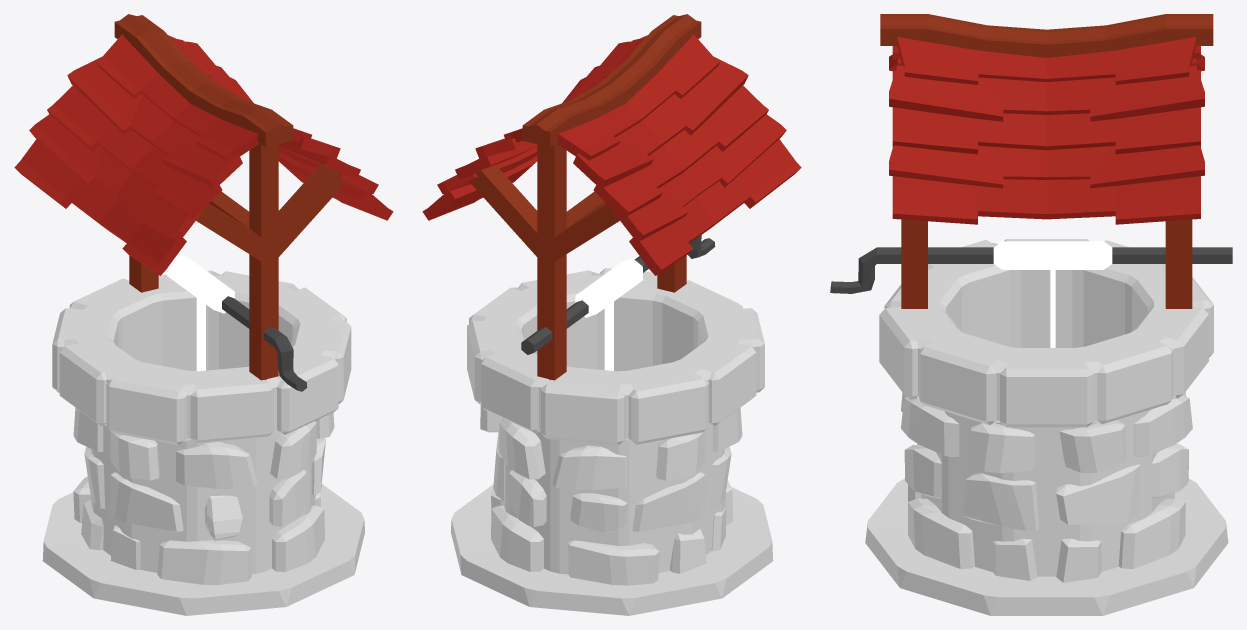
Rendered from well.glb.
3 views of the same model, side by side, from view 1: azimuth 30°, elevation 25°; view 2: azimuth 150°, elevation 25°; view 3: azimuth 270°, elevation 25° (orthographic). The views are drawn at different scales.
Parts seen in each view (by area): view 1: Well; view 2: Well; view 3: Well.
Boxes of the visible parts, x1,y1,x2,y2 form: Well: (14, 14, 393, 615); Well: (422, 14, 801, 615); Well: (830, 14, 1232, 615).
Bounding box in the file's own units: 128 × 215 × 149.
